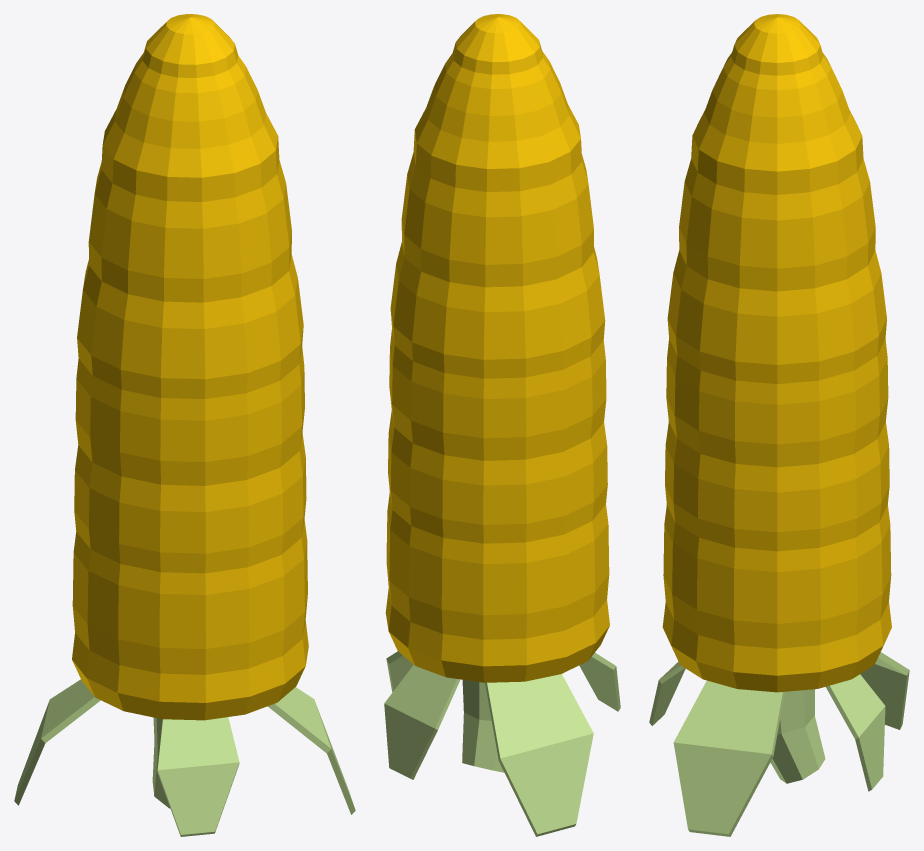
The model's file is ear-of-corn.glb.
The picture shows the model from 3 angles, left to right: view 1: azimuth 30°, elevation 25°; view 2: azimuth 150°, elevation 25°; view 3: azimuth 270°, elevation 25°; orthographic projection. The views are drawn at different scales.
Parts seen in each view (by area): view 1: Circle.002_Circle.011; view 2: Circle.002_Circle.011; view 3: Circle.002_Circle.011.
Part boxes in pixels (x1,y1,x2,y2): Circle.002_Circle.011: (14,14,355,836); Circle.002_Circle.011: (384,14,620,836); Circle.002_Circle.011: (649,14,909,836).
Size of the model in its own units: 4.13 by 11.94 by 3.7.
